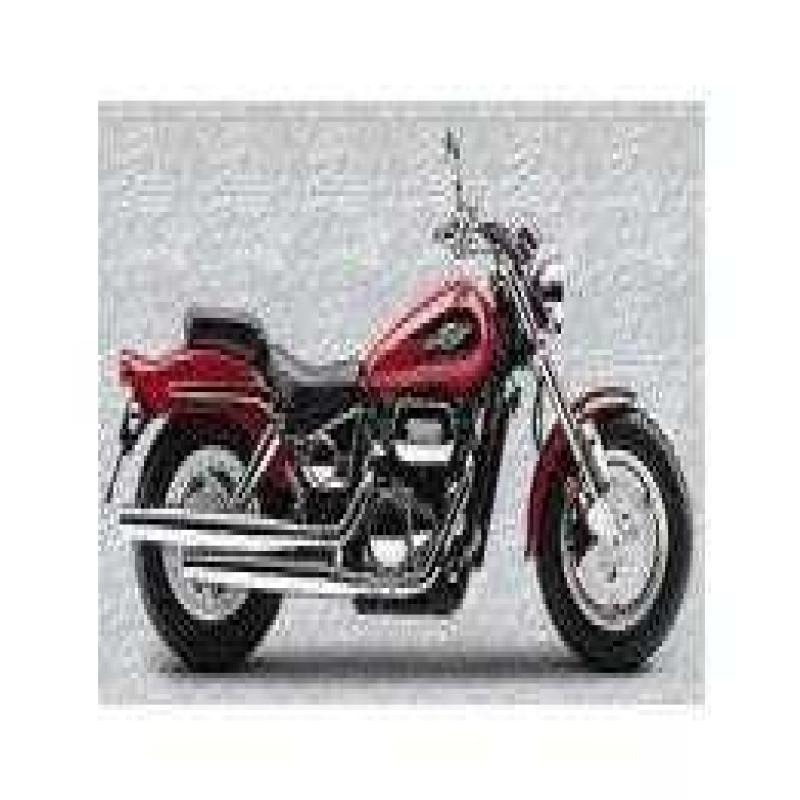bike: (105, 105, 684, 751)
